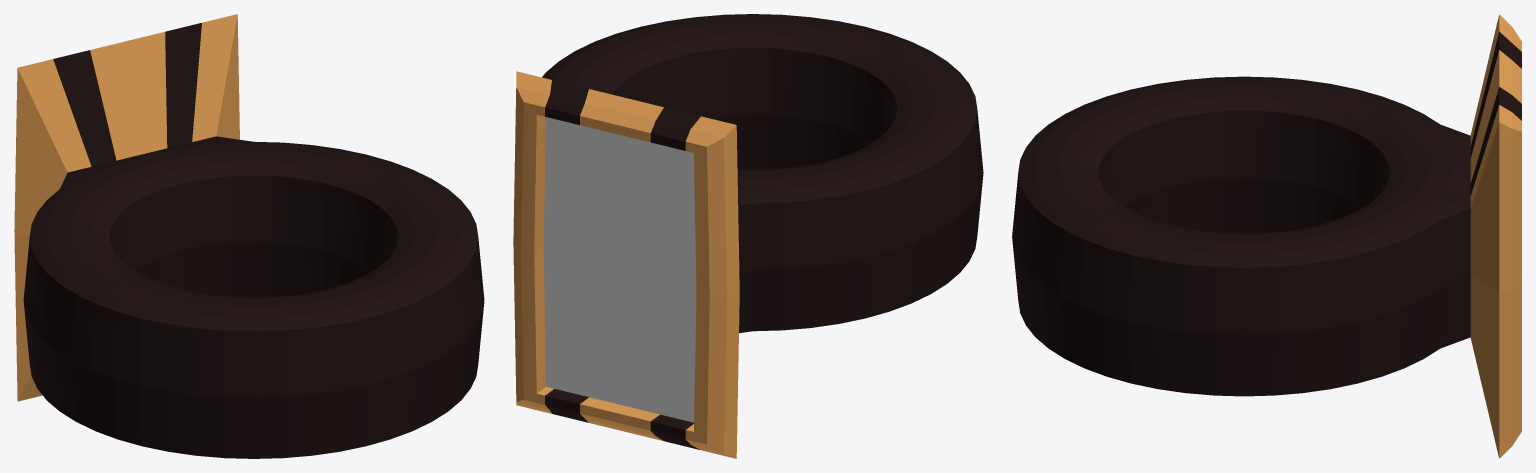
The model's file is VR_PDA.fbx.
3 renders of one model, left to right at view 1: azimuth 30°, elevation 25°; view 2: azimuth 150°, elevation 25°; view 3: azimuth 270°, elevation 25°, orthographic.
Visible parts, largest first — view 1: Torus; view 2: Torus; view 3: Torus.
Boxes of the visible parts, box(x1,y1,x2,y2) form: Torus: box(14, 14, 484, 458); Torus: box(513, 14, 983, 458); Torus: box(1012, 14, 1521, 458).
Bounding box in the file's own units: 250 × 200 × 274.
